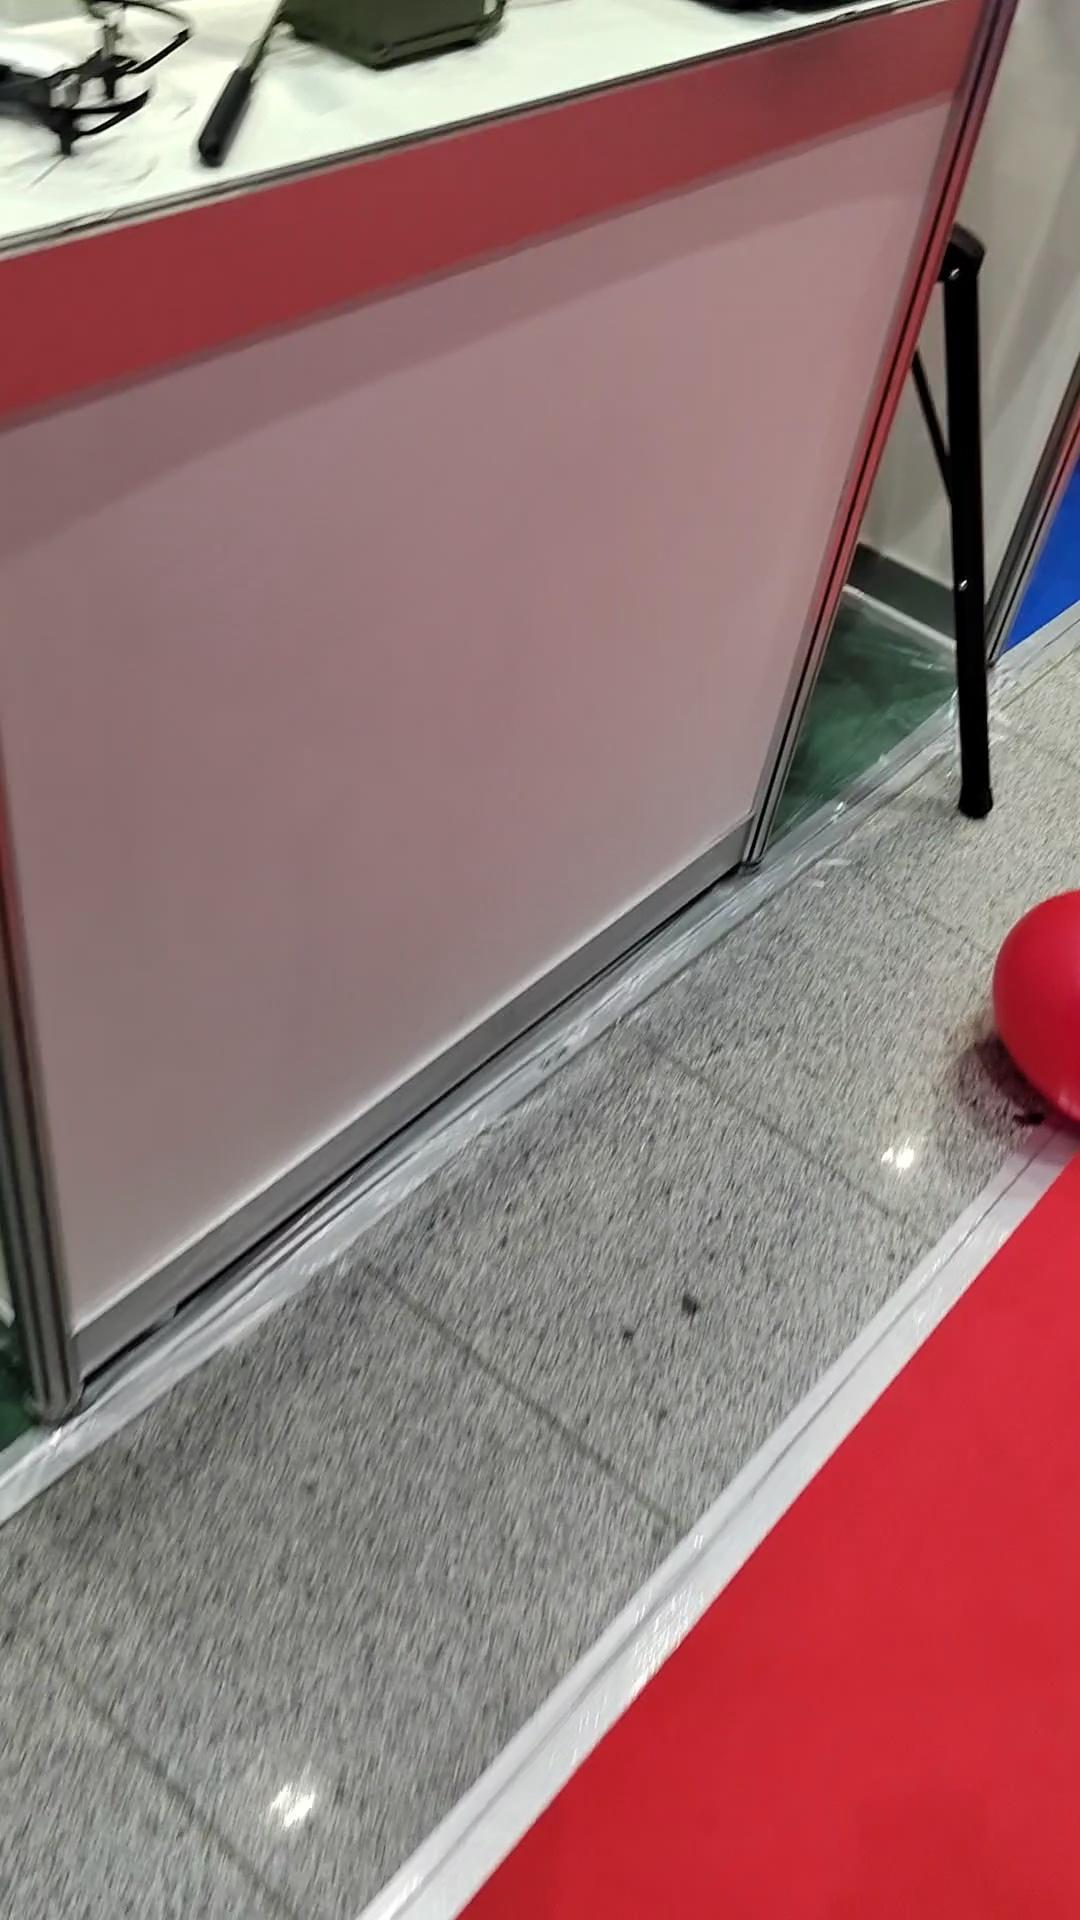red: (973, 877, 1080, 1139)
